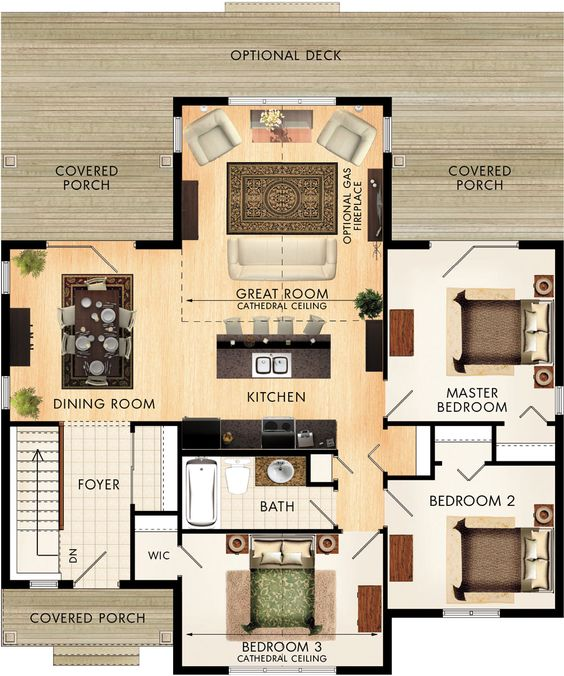room: (384, 239, 564, 426), (173, 98, 392, 251), (177, 530, 387, 674), (382, 474, 564, 617), (176, 449, 337, 532)
